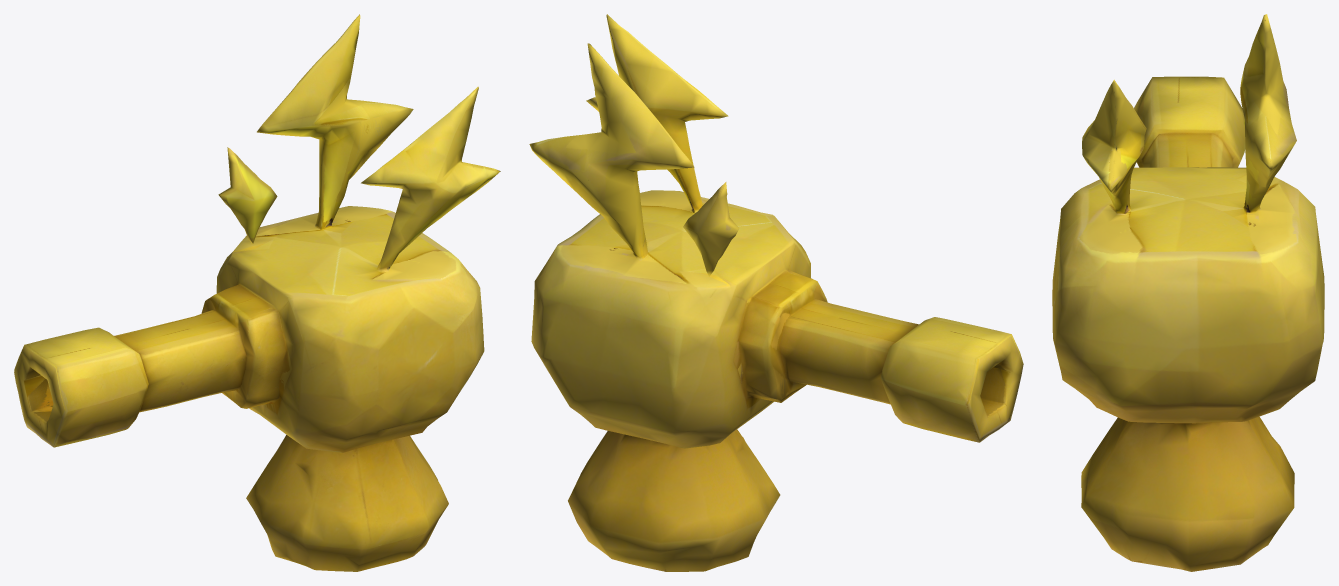
The model's file is Electric_Turret_1214000047_texture.fbx.
3 renders of one model, left to right at view 1: azimuth 30°, elevation 25°; view 2: azimuth 150°, elevation 25°; view 3: azimuth 270°, elevation 25°, orthographic. The views are drawn at different scales.
Visible parts, largest first — view 1: Mesh_0; view 2: Mesh_0; view 3: Mesh_0.
Boxes of the visible parts, box(x1,y1,x2,y2) form: Mesh_0: box(14, 14, 500, 571); Mesh_0: box(529, 14, 1023, 571); Mesh_0: box(1052, 14, 1324, 571).
Size of the model in its own units: 185 by 201 by 91.11.
Materials: 1 (1 with a texture image).
